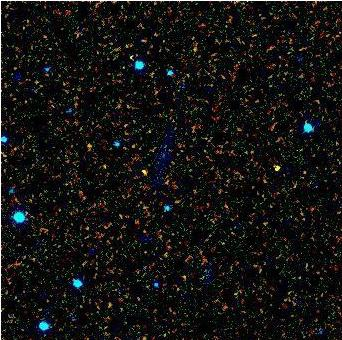star: (124, 159, 154, 189)
